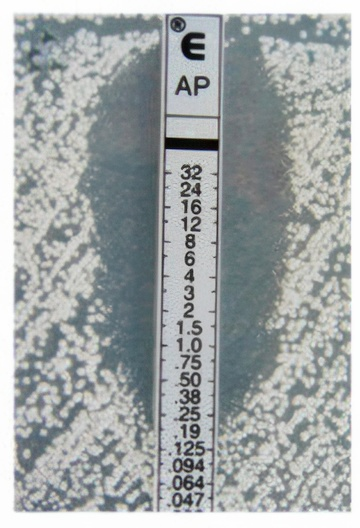line: (152, 9, 225, 515)
zone: (85, 47, 293, 424)
